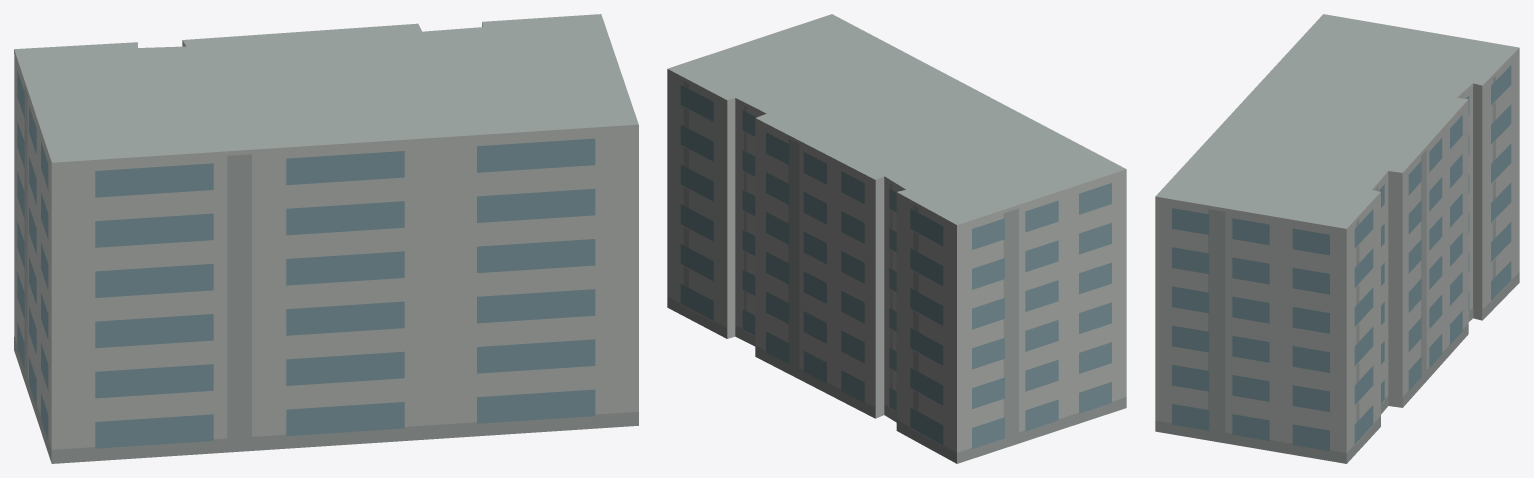
Rendered from survey-upis-32541966.glb.
3 views of the same model, side by side, from view 1: azimuth 30°, elevation 25°; view 2: azimuth 150°, elevation 25°; view 3: azimuth 270°, elevation 25° (orthographic). The views are drawn at different scales.
Visible parts, largest first — view 1: survey-upis-32541966.tmp; view 2: survey-upis-32541966.tmp; view 3: survey-upis-32541966.tmp.
Part boxes in pixels (x1,y1,x2,y2): survey-upis-32541966.tmp: (14,14,638,463); survey-upis-32541966.tmp: (667,14,1126,463); survey-upis-32541966.tmp: (1155,14,1519,463).
Bounding box in the file's own units: 31.59 × 16.1 × 22.63.
